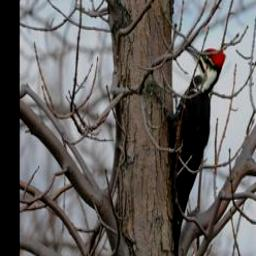Woodpecker: (165, 40, 227, 256)
